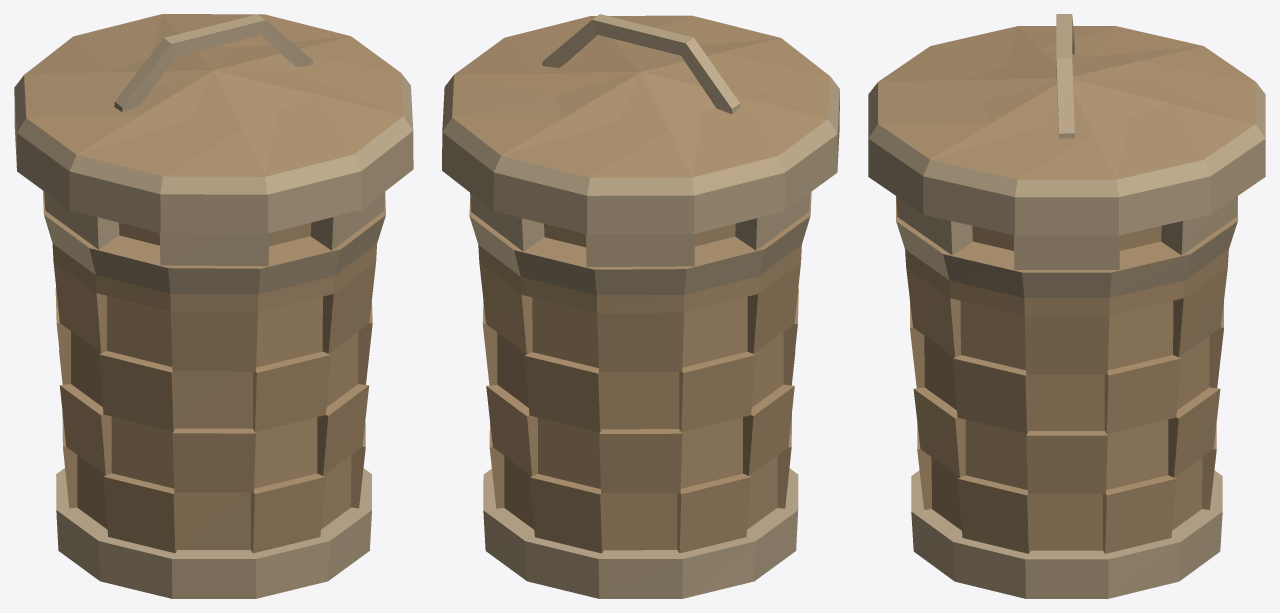
Rendered from laundry.glb.
3 views of the same model, side by side, from view 1: azimuth 30°, elevation 25°; view 2: azimuth 150°, elevation 25°; view 3: azimuth 270°, elevation 25° (orthographic).
Visible parts, largest first — view 1: basket-body, basket-lid; view 2: basket-body, basket-lid; view 3: basket-body, basket-lid.
Boxes of the visible parts, <box> form: basket-body: <box>42,190,385,598</box>; basket-lid: <box>14,14,413,233</box>; basket-body: <box>469,192,811,598</box>; basket-lid: <box>442,14,839,234</box>; basket-body: <box>896,196,1237,598</box>; basket-lid: <box>868,14,1265,235</box>.
Size of the model in its own units: 0.3134 by 0.4433 by 0.3205.
